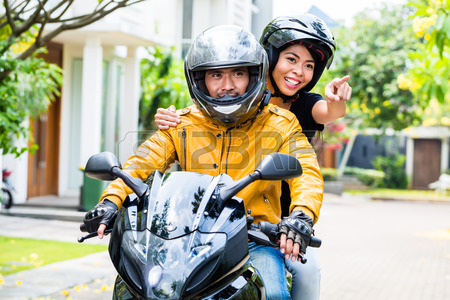with_helmet: (187, 21, 270, 119), (260, 17, 335, 74)
